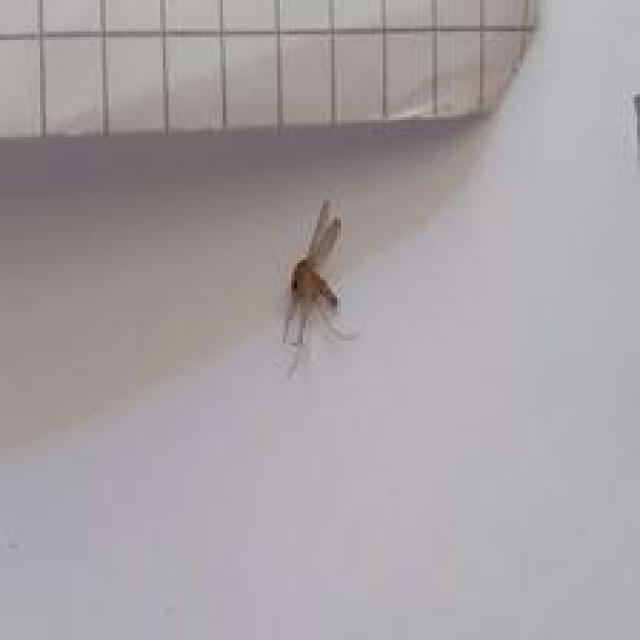Culex: (278, 197, 358, 377)
